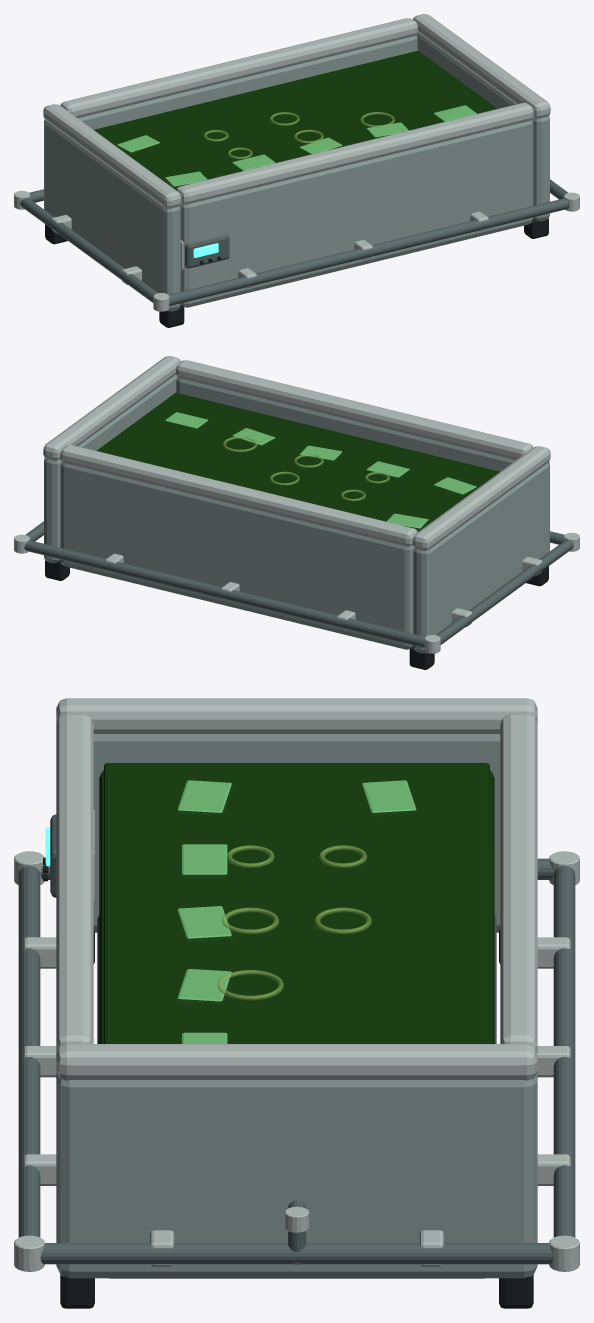
Rendered from Bac moyen aéré pour algues.glb.
3 renders of one model, top to bottom at view 1: azimuth 30°, elevation 25°; view 2: azimuth 150°, elevation 25°; view 3: azimuth 270°, elevation 25°, orthographic. The views are drawn at different scales.
Visible parts, largest first — view 1: 20_medium_aerated_algae_vat_Vat_Wall_Front, 20_medium_aerated_algae_vat_Water_Surface, 20_medium_aerated_algae_vat_Vat_Wall_Left, 20_medium_aerated_algae_vat_Reinforced_Rim_Front, 20_medium_aerated_algae_vat_Reinforced_Rim_Rear, 20_medium_aerated_algae_vat_Vat_Wall_Rear, 20_medium_aerated_algae_vat_Perimeter_Front, 20_medium_aerated_algae_vat_Reinforced_Rim_Left, 20_medium_aerated_algae_vat_Reinforced_Rim_Right, 20_medium_aerated_algae_vat_Vat_Wall_Right, 20_medium_aerated_algae_vat_Perimeter_Left, 20_medium_aerated_algae_vat_Control_Housing (+4 smaller); view 2: 20_medium_aerated_algae_vat_Vat_Wall_Rear, 20_medium_aerated_algae_vat_Water_Surface, 20_medium_aerated_algae_vat_Vat_Wall_Left, 20_medium_aerated_algae_vat_Reinforced_Rim_Rear, 20_medium_aerated_algae_vat_Reinforced_Rim_Front, 20_medium_aerated_algae_vat_Vat_Wall_Front, 20_medium_aerated_algae_vat_Perimeter_Rear, 20_medium_aerated_algae_vat_Reinforced_Rim_Left, 20_medium_aerated_algae_vat_Reinforced_Rim_Right, 20_medium_aerated_algae_vat_Vat_Wall_Right, 20_medium_aerated_algae_vat_Perimeter_Left, 20_medium_aerated_algae_vat_Foot_-1_1 (+3 smaller); view 3: 20_medium_aerated_algae_vat_Water_Surface, 20_medium_aerated_algae_vat_Vat_Wall_Right, 20_medium_aerated_algae_vat_Reinforced_Rim_Right, 20_medium_aerated_algae_vat_Reinforced_Rim_Left, 20_medium_aerated_algae_vat_Vat_Wall_Left, 20_medium_aerated_algae_vat_Reinforced_Rim_Front, 20_medium_aerated_algae_vat_Reinforced_Rim_Rear, 20_medium_aerated_algae_vat_Perimeter_Right, 20_medium_aerated_algae_vat_Perimeter_Front, 20_medium_aerated_algae_vat_Perimeter_Rear, 20_medium_aerated_algae_vat_Algae_Liquid, 20_medium_aerated_algae_vat_Algae_Mat_1 (+14 smaller).
Part boxes in pixels (box(x1,y1,x2,y2)): 20_medium_aerated_algae_vat_Vat_Wall_Front: box(180, 120, 533, 307); 20_medium_aerated_algae_vat_Water_Surface: box(94, 51, 497, 189); 20_medium_aerated_algae_vat_Vat_Wall_Left: box(44, 120, 180, 311); 20_medium_aerated_algae_vat_Reinforced_Rim_Front: box(176, 103, 533, 204); 20_medium_aerated_algae_vat_Reinforced_Rim_Rear: box(60, 18, 417, 117); 20_medium_aerated_algae_vat_Vat_Wall_Rear: box(78, 35, 417, 129); 20_medium_aerated_algae_vat_Perimeter_Front: box(169, 198, 569, 305); 20_medium_aerated_algae_vat_Reinforced_Rim_Left: box(43, 104, 181, 208); 20_medium_aerated_algae_vat_Reinforced_Rim_Right: box(413, 14, 550, 118); 20_medium_aerated_algae_vat_Vat_Wall_Right: box(416, 33, 549, 221); 20_medium_aerated_algae_vat_Perimeter_Left: box(20, 198, 157, 302); 20_medium_aerated_algae_vat_Control_Housing: box(185, 234, 229, 268); 20_medium_aerated_algae_vat_Vat_Wall_Rear: box(60, 462, 413, 649); 20_medium_aerated_algae_vat_Water_Surface: box(96, 393, 499, 531); 20_medium_aerated_algae_vat_Vat_Wall_Left: box(413, 462, 549, 653); 20_medium_aerated_algae_vat_Reinforced_Rim_Rear: box(60, 445, 417, 546); 20_medium_aerated_algae_vat_Reinforced_Rim_Front: box(176, 360, 533, 459); 20_medium_aerated_algae_vat_Vat_Wall_Front: box(176, 377, 515, 471); 20_medium_aerated_algae_vat_Perimeter_Rear: box(24, 540, 424, 647); 20_medium_aerated_algae_vat_Reinforced_Rim_Left: box(412, 446, 550, 550); 20_medium_aerated_algae_vat_Reinforced_Rim_Right: box(43, 356, 180, 460); 20_medium_aerated_algae_vat_Vat_Wall_Right: box(44, 375, 177, 563); 20_medium_aerated_algae_vat_Perimeter_Left: box(436, 540, 573, 644); 20_medium_aerated_algae_vat_Foot_-1_1: box(409, 646, 434, 669); 20_medium_aerated_algae_vat_Water_Surface: box(104, 763, 489, 1043); 20_medium_aerated_algae_vat_Vat_Wall_Right: box(56, 1074, 537, 1278); 20_medium_aerated_algae_vat_Reinforced_Rim_Right: box(56, 1044, 537, 1080); 20_medium_aerated_algae_vat_Reinforced_Rim_Left: box(56, 698, 537, 733); 20_medium_aerated_algae_vat_Vat_Wall_Left: box(93, 734, 500, 932); 20_medium_aerated_algae_vat_Reinforced_Rim_Front: box(56, 714, 93, 1053); 20_medium_aerated_algae_vat_Reinforced_Rim_Rear: box(500, 714, 537, 1053); 20_medium_aerated_algae_vat_Perimeter_Right: box(40, 1243, 553, 1264); 20_medium_aerated_algae_vat_Perimeter_Front: box(18, 866, 40, 1237); 20_medium_aerated_algae_vat_Perimeter_Rear: box(553, 866, 575, 1237); 20_medium_aerated_algae_vat_Algae_Liquid: box(99, 770, 494, 1043); 20_medium_aerated_algae_vat_Algae_Mat_1: box(177, 780, 231, 812).
Bounding box in the file's own units: 3.52 × 1.06 × 2.12.
